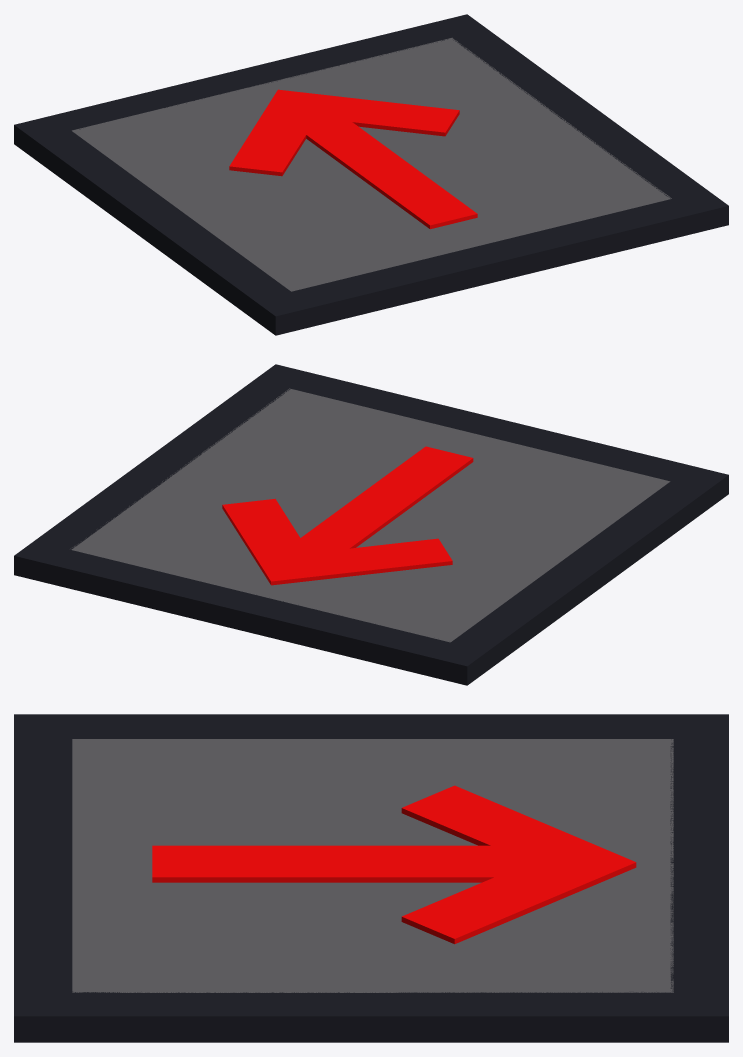
File: Obyy_Checkpoin.obj
3 renders of one model, top to bottom at view 1: azimuth 30°, elevation 25°; view 2: azimuth 150°, elevation 25°; view 3: azimuth 270°, elevation 25°, orthographic. The views are drawn at different scales.
Visible parts, largest first — view 1: Gray1, Part7, Part4, Part6, Part5, Part1, Part2, Part3; view 2: Gray1, Part4, Part5, Part6, Part7, Part1, Part3, Part2; view 3: Gray1, Part6, Part4, Part7, Part5, Part1, Part3, Part2.
Part boxes in pixels (box(x1,y1,x2,y2)): Gray1: box(72, 37, 671, 291); Part7: box(291, 199, 691, 326); Part4: box(14, 116, 312, 335); Part6: box(430, 14, 728, 233); Part5: box(51, 23, 449, 130); Part1: box(292, 112, 477, 229); Part2: box(264, 89, 459, 136); Part3: box(229, 90, 329, 176); Gray1: box(70, 388, 670, 642); Part4: box(430, 466, 728, 685); Part5: box(51, 550, 450, 676); Part6: box(14, 364, 312, 583); Part7: box(291, 373, 691, 481); Part1: box(287, 446, 473, 559); Part3: box(257, 538, 452, 585); Part2: box(222, 498, 323, 584); Gray1: box(72, 739, 673, 992); Part6: box(14, 991, 728, 1042); Part4: box(14, 714, 728, 738); Part7: box(14, 739, 72, 991); Part5: box(670, 739, 728, 991); Part1: box(152, 845, 531, 882); Part3: box(401, 785, 635, 884); Part2: box(401, 840, 636, 944).
Bounding box in the file's own units: 24.5 × 1.2 × 24.5.
